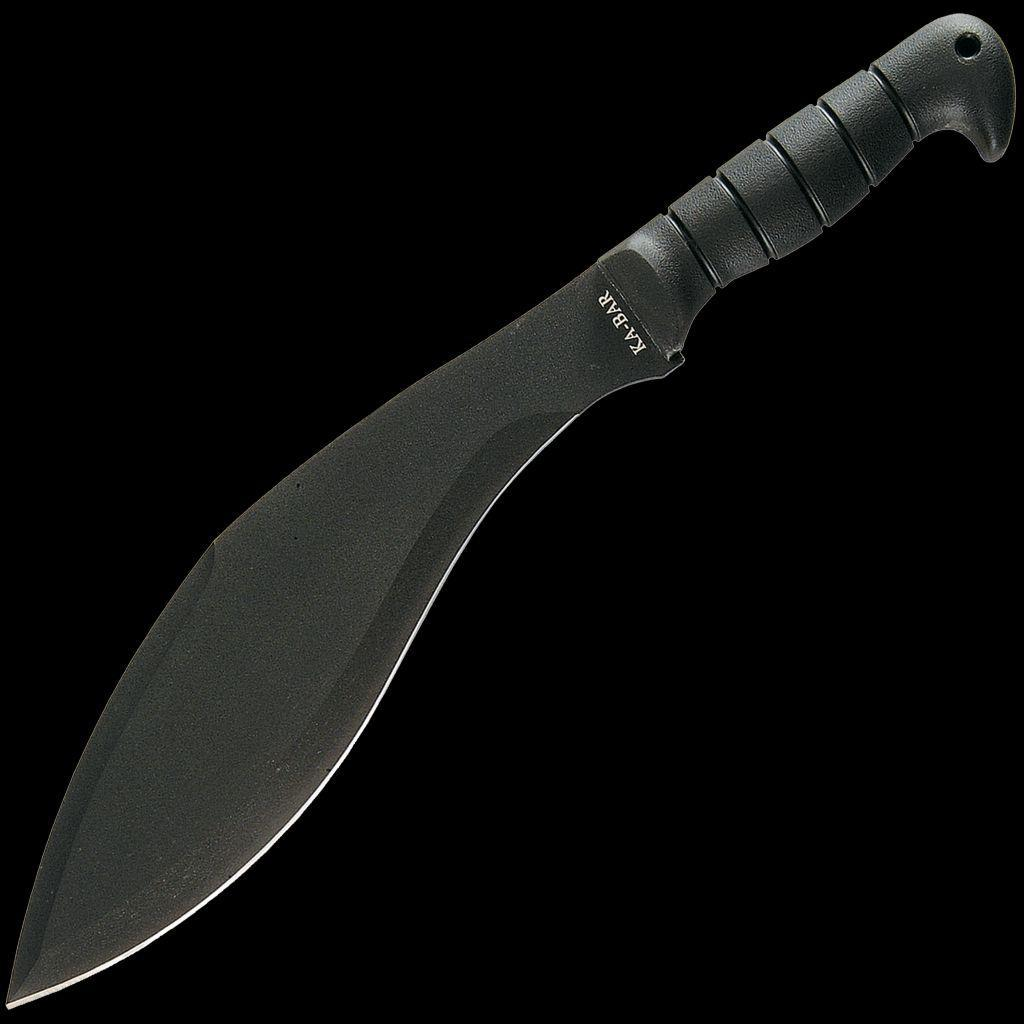facao: (20, 17, 1000, 1005)
